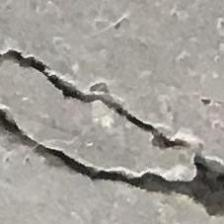Crack: (0, 46, 221, 219)
